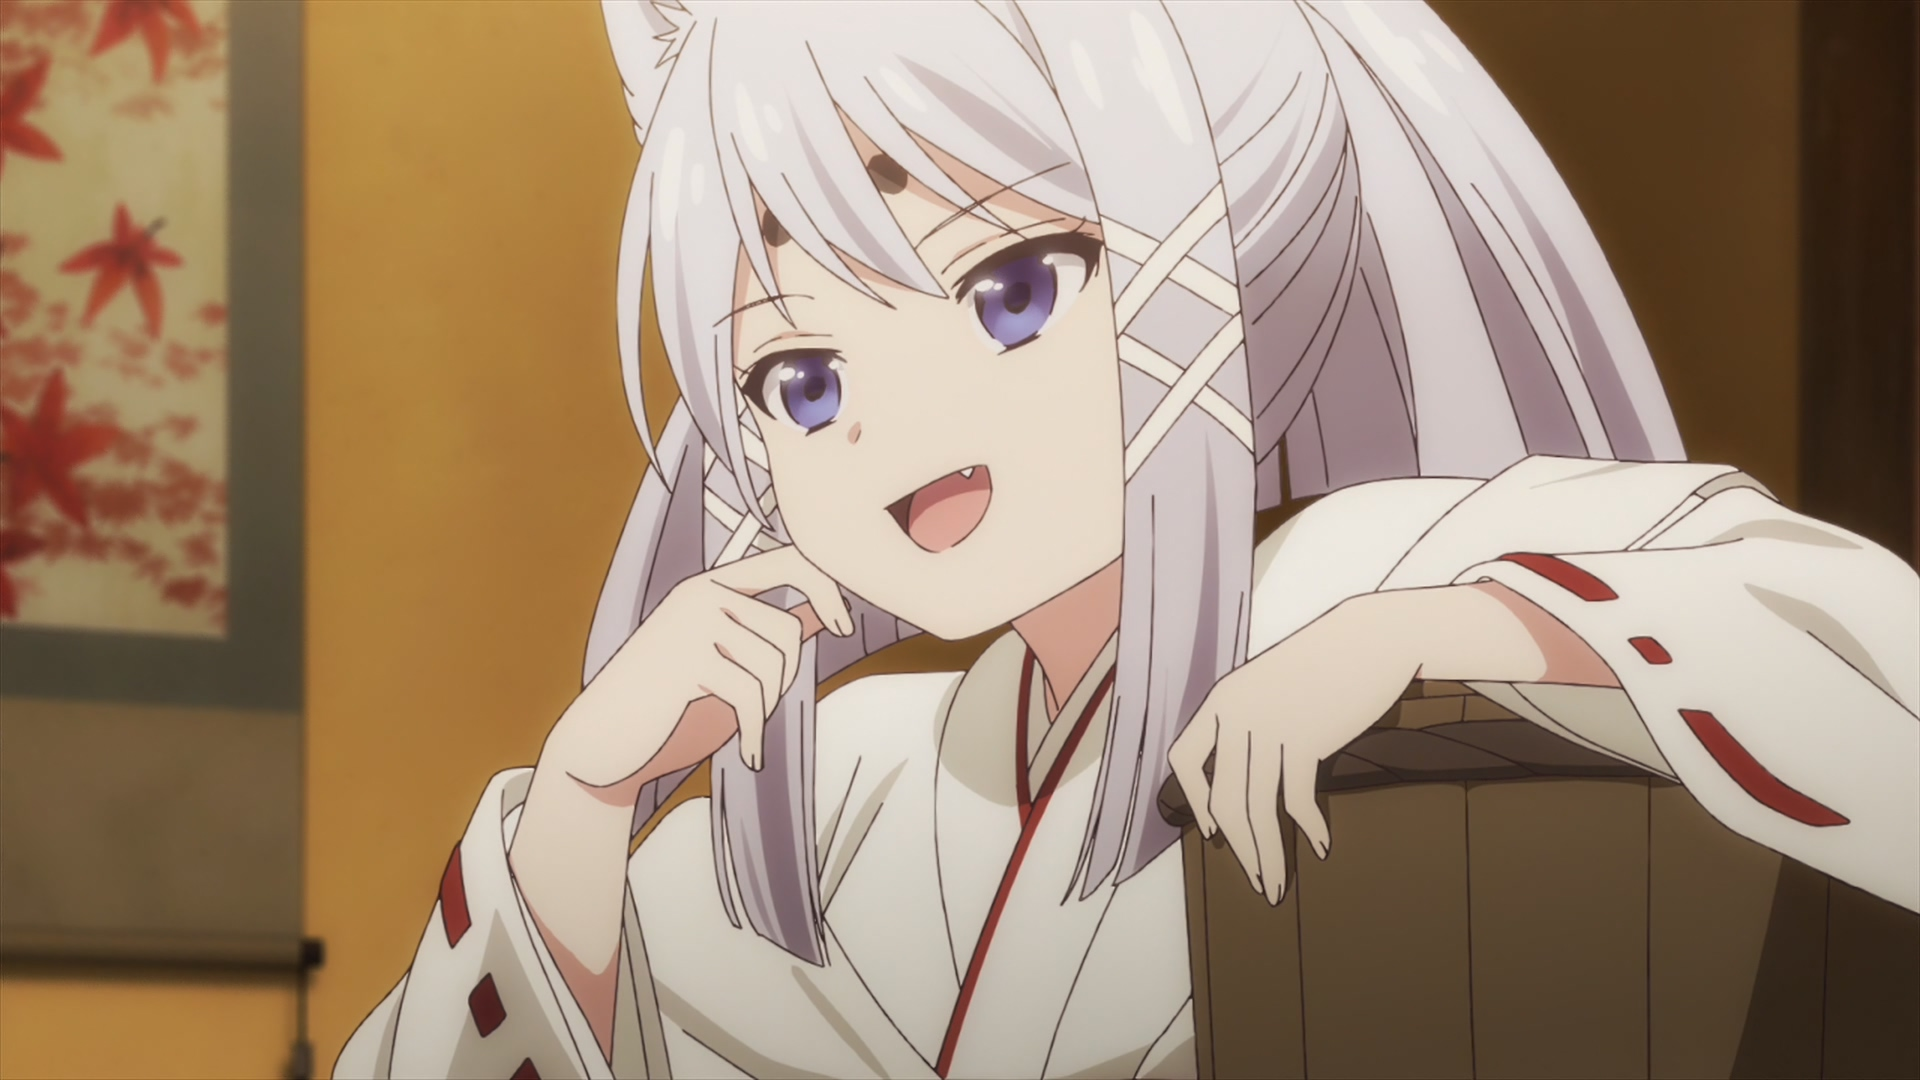柊: (330, 1, 1920, 1080)
